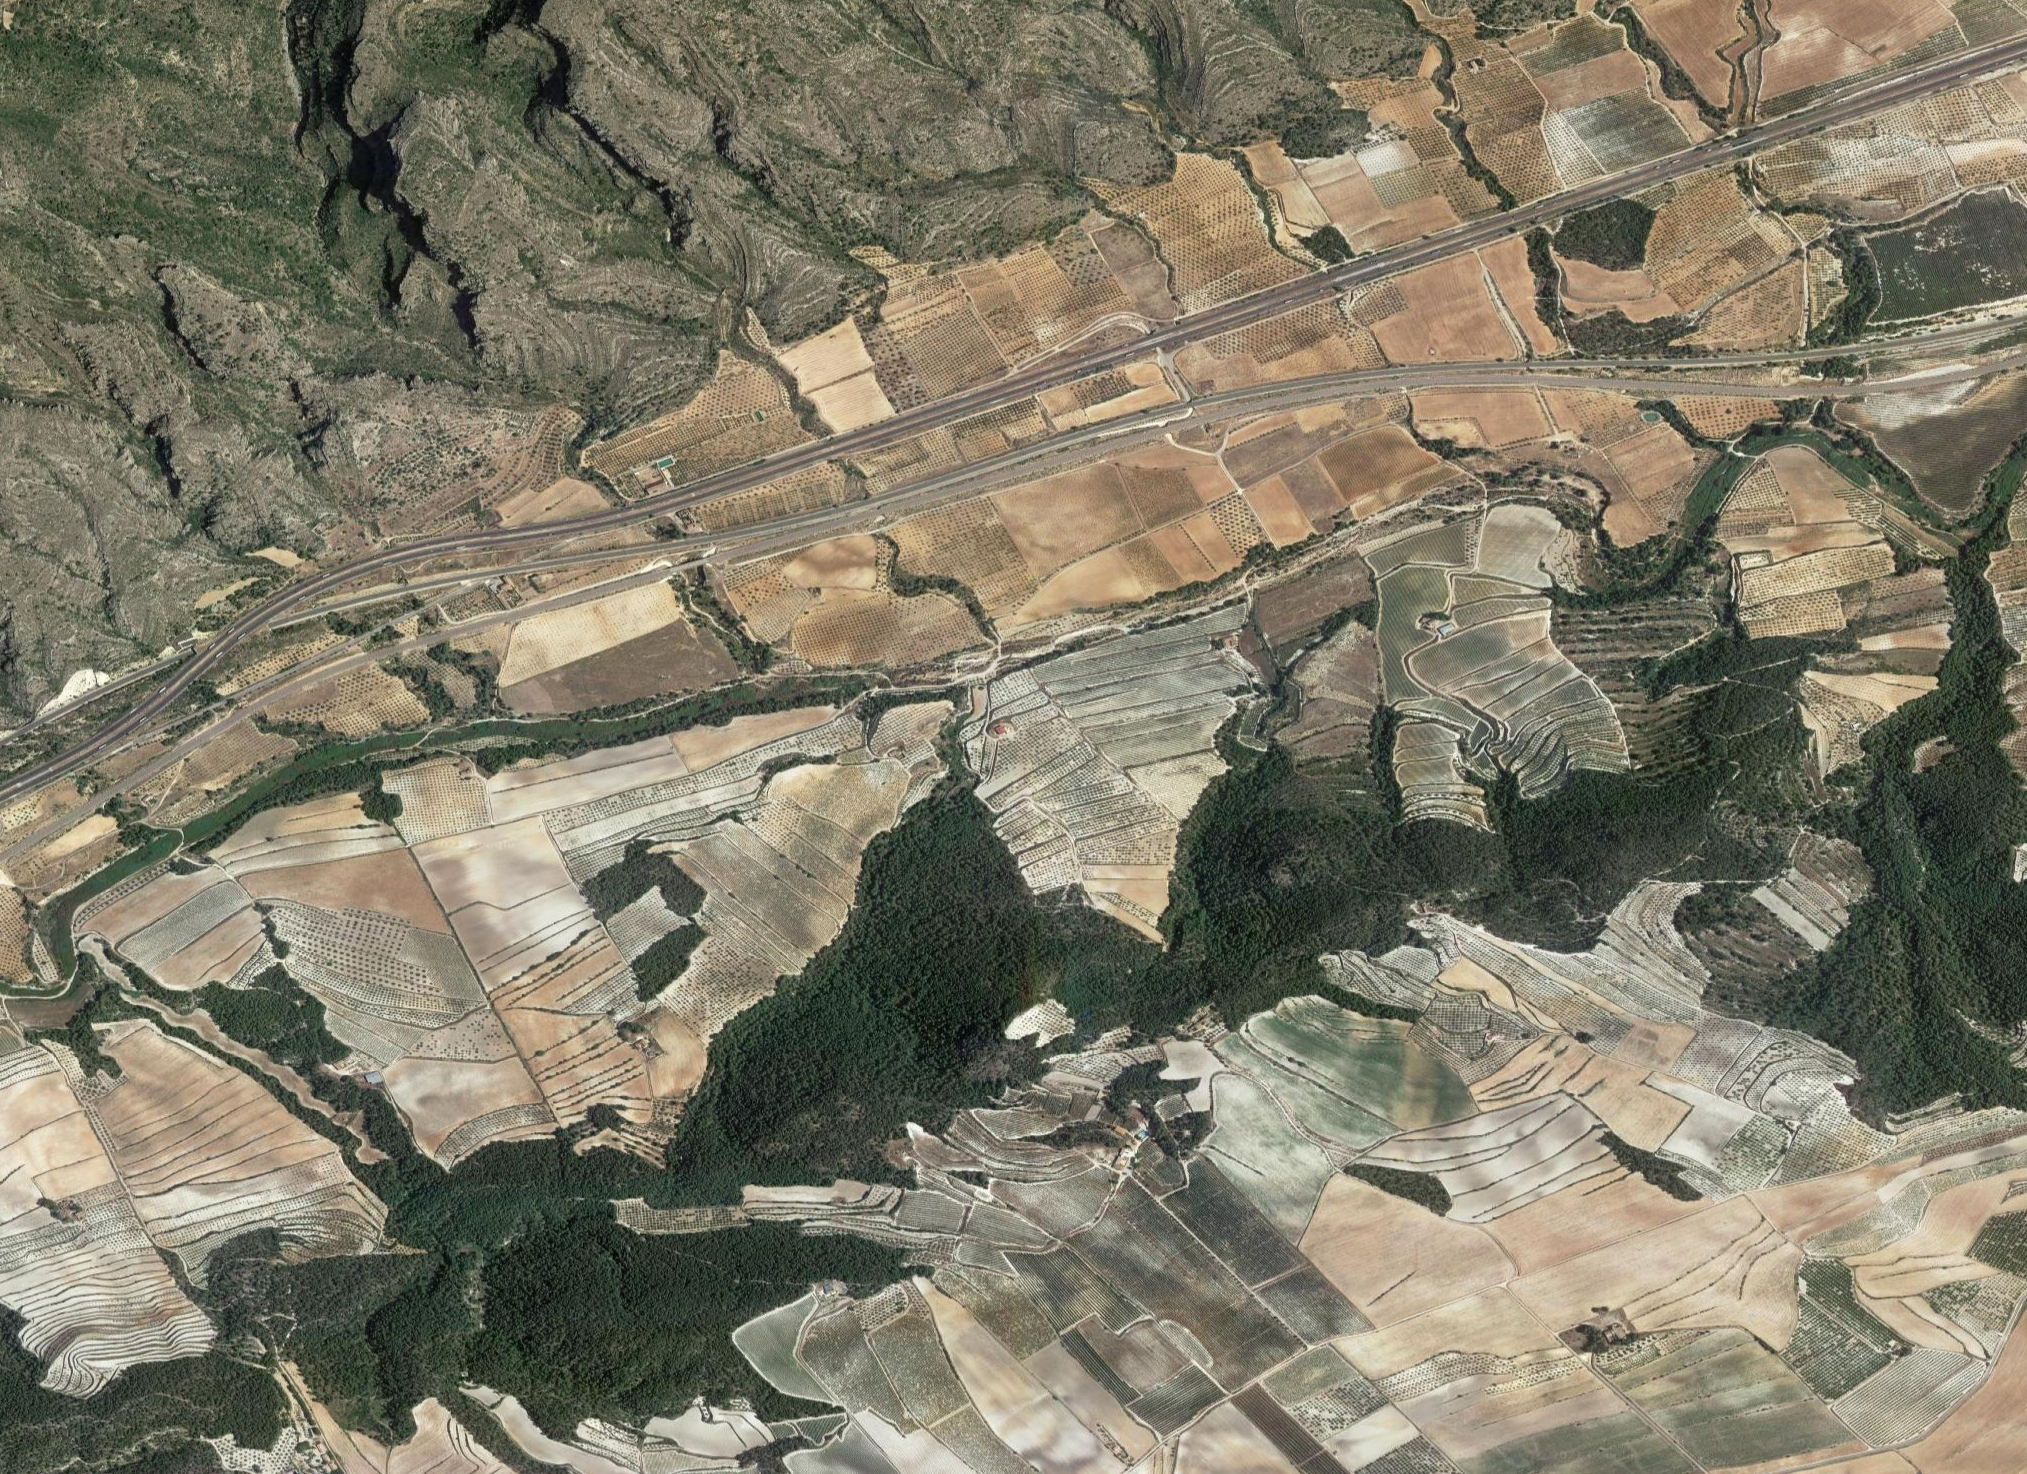motorway: (2, 555, 404, 853), (367, 455, 817, 610), (798, 318, 1202, 489), (1202, 179, 1623, 337), (1616, 41, 2027, 192), (1213, 348, 1657, 447), (1660, 297, 2027, 411)
